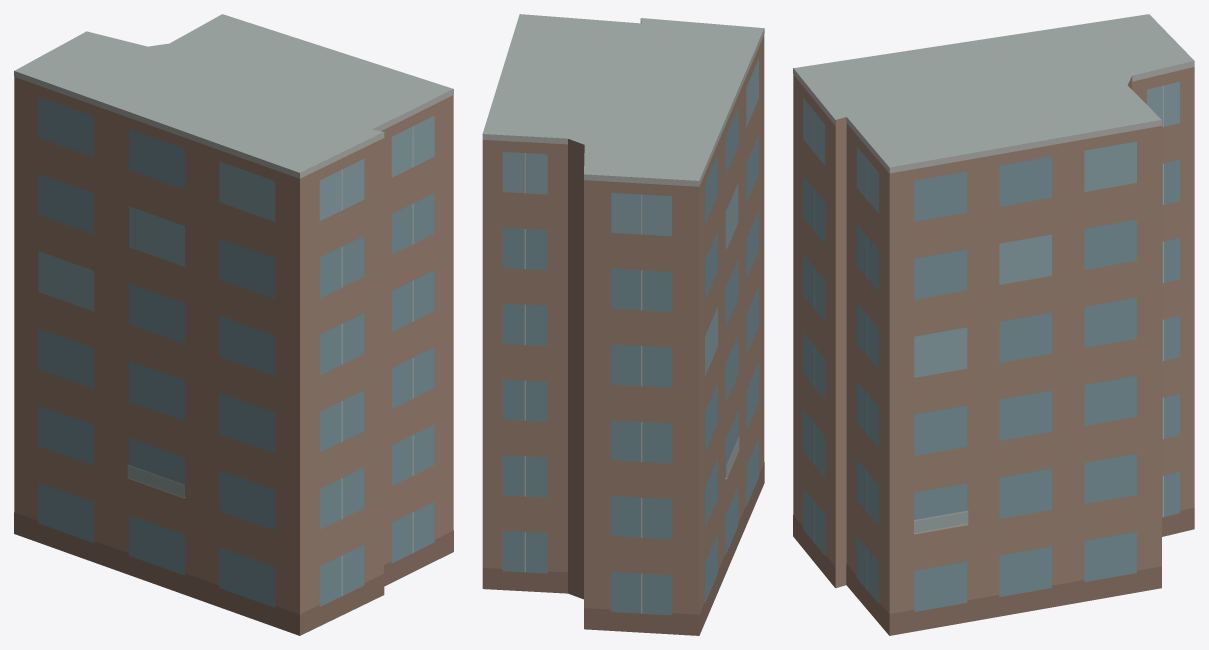
The model's file is survey-upis-32771136.glb.
3 views of the same model, side by side, from view 1: azimuth 30°, elevation 25°; view 2: azimuth 150°, elevation 25°; view 3: azimuth 270°, elevation 25° (orthographic). The views are drawn at different scales.
Visible parts, largest first — view 1: survey-upis-32771136.tmp; view 2: survey-upis-32771136.tmp; view 3: survey-upis-32771136.tmp.
Boxes of the visible parts, x1,y1,x2,y2 form: survey-upis-32771136.tmp: (14, 14, 453, 635); survey-upis-32771136.tmp: (482, 14, 764, 635); survey-upis-32771136.tmp: (793, 14, 1194, 635).
Size of the model in its own units: 13.52 by 19.2 by 14.93.
